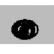correct: (9, 15, 42, 42)
